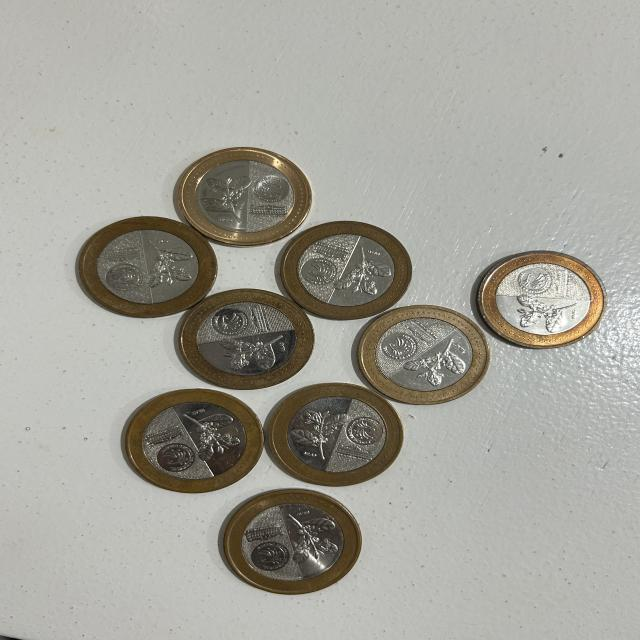20_New_Back: (209, 327, 293, 378), (288, 399, 350, 462)
